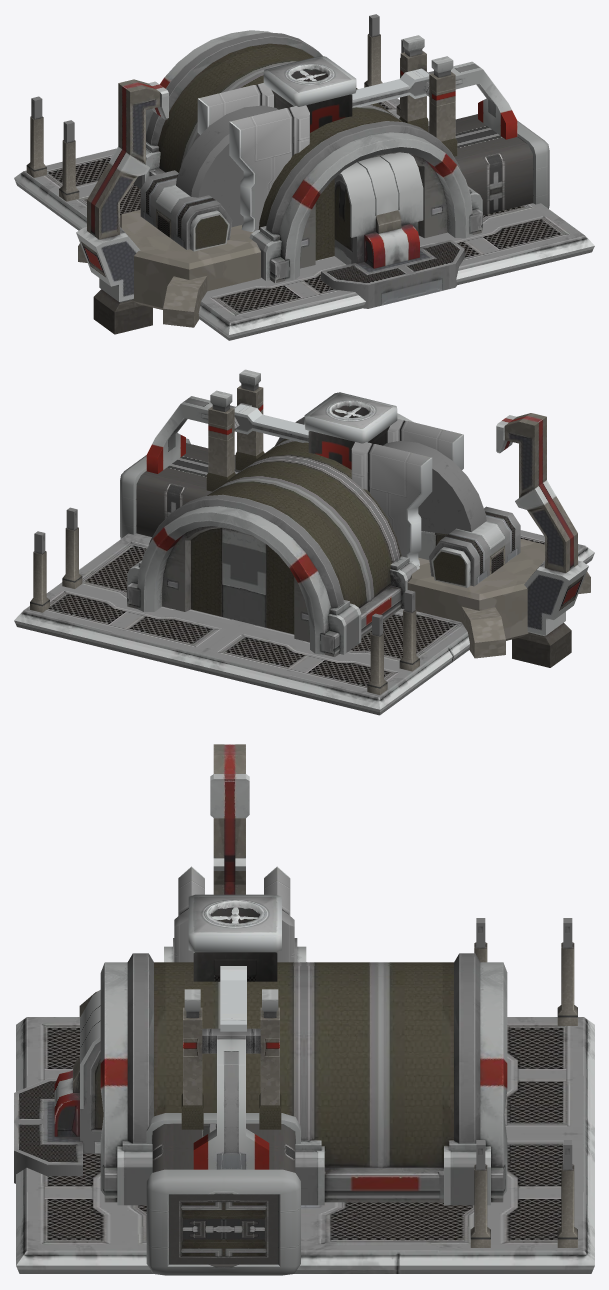
File: Building - 02-D65p382o.glb
The picture shows the model from 3 angles, top to bottom: view 1: azimuth 30°, elevation 25°; view 2: azimuth 150°, elevation 25°; view 3: azimuth 270°, elevation 25°; orthographic projection. The views are drawn at different scales.
Parts seen in each view (by area): view 1: Main_form_08, Pad_06, Addon_08, Pylon_06, block4, Simlpe_form_14, Addon_03, Fence_08 (1), Addon_07, Simlpe_form_12, Extras_04, Fence_08 (+5 smaller); view 2: Main_form_08, Pad_06, Pylon_06, Addon_03, Simlpe_form_14, Fence_08, block4, Addon_07, Extras_04, Simlpe_form_12, Simlpe_form_07, Fence_08 (1) (+5 smaller); view 3: Main_form_08, Pad_06, block4, Addon_03, Addon_08, Extras_04, Pylon_06, Column_06, Fence_08 (1), Column_05 (2), Column_05, Column_05 (1) (+1 smaller).
Boxes of the visible parts, bbox=[...] form: Main_form_08: bbox=[133, 30, 482, 283]; Pad_06: bbox=[14, 98, 594, 340]; Addon_08: bbox=[321, 152, 464, 308]; Pylon_06: bbox=[76, 79, 168, 334]; block4: bbox=[428, 114, 549, 215]; Simlpe_form_14: bbox=[120, 209, 260, 309]; Addon_03: bbox=[399, 35, 517, 156]; Fence_08 (1): bbox=[229, 105, 309, 231]; Addon_07: bbox=[140, 170, 232, 251]; Simlpe_form_12: bbox=[176, 105, 278, 227]; Extras_04: bbox=[263, 56, 356, 132]; Fence_08: bbox=[197, 83, 273, 134]; Main_form_08: bbox=[127, 413, 419, 656]; Pad_06: bbox=[14, 530, 594, 715]; Pylon_06: bbox=[496, 413, 588, 667]; Addon_03: bbox=[146, 369, 264, 491]; Simlpe_form_14: bbox=[407, 539, 544, 640]; Fence_08: bbox=[351, 442, 432, 565]; block4: bbox=[120, 438, 240, 538]; Addon_07: bbox=[418, 506, 520, 587]; Extras_04: bbox=[304, 392, 397, 469]; Simlpe_form_12: bbox=[383, 441, 486, 534]; Simlpe_form_07: bbox=[461, 606, 505, 658]; Fence_08 (1): bbox=[387, 418, 463, 469]; Main_form_08: bbox=[100, 953, 507, 1205]; Pad_06: bbox=[16, 1017, 594, 1273]; block4: bbox=[146, 1113, 300, 1275]; Addon_03: bbox=[181, 989, 281, 1169]; Addon_08: bbox=[14, 990, 103, 1183]; Extras_04: bbox=[188, 894, 281, 981]; Pylon_06: bbox=[210, 744, 249, 894]; Column_06: bbox=[220, 966, 246, 1031]; Fence_08 (1): bbox=[174, 866, 204, 962]; Column_05 (2): bbox=[470, 1140, 490, 1247]; Column_05: bbox=[557, 918, 577, 1025]; Column_05 (1): bbox=[557, 1140, 577, 1247].
Size of the model in its own units: 6.24 by 3.2 by 5.34.
Materials: 10 (10 with a texture image).
